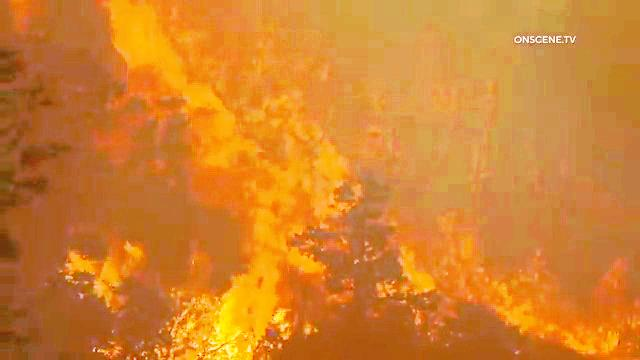fire: (254, 124, 420, 338), (428, 219, 640, 360), (163, 270, 271, 360)
